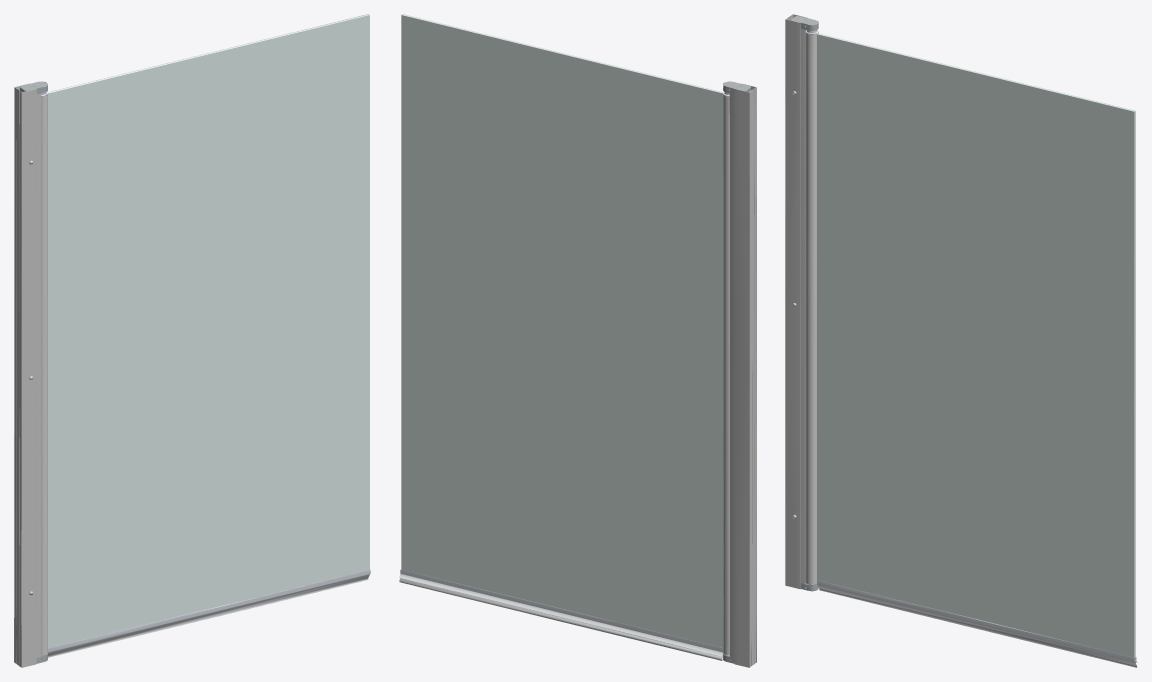
The picture shows the model from 3 angles, left to right: view 1: azimuth 30°, elevation 25°; view 2: azimuth 150°, elevation 25°; view 3: azimuth 330°, elevation 25°; orthographic projection.
Visible parts, largest first — view 1: model; view 2: model; view 3: model.
Boxes of the visible parts, x1=… form: model: x1=14, y1=14, x2=370, y2=667; model: x1=399, y1=14, x2=756, y2=667; model: x1=785, y1=14, x2=1137, y2=667.
Bounding box in the file's own units: 0.9171 × 1.44 × 0.0369.
Materials: 2 (2 with a texture image).
